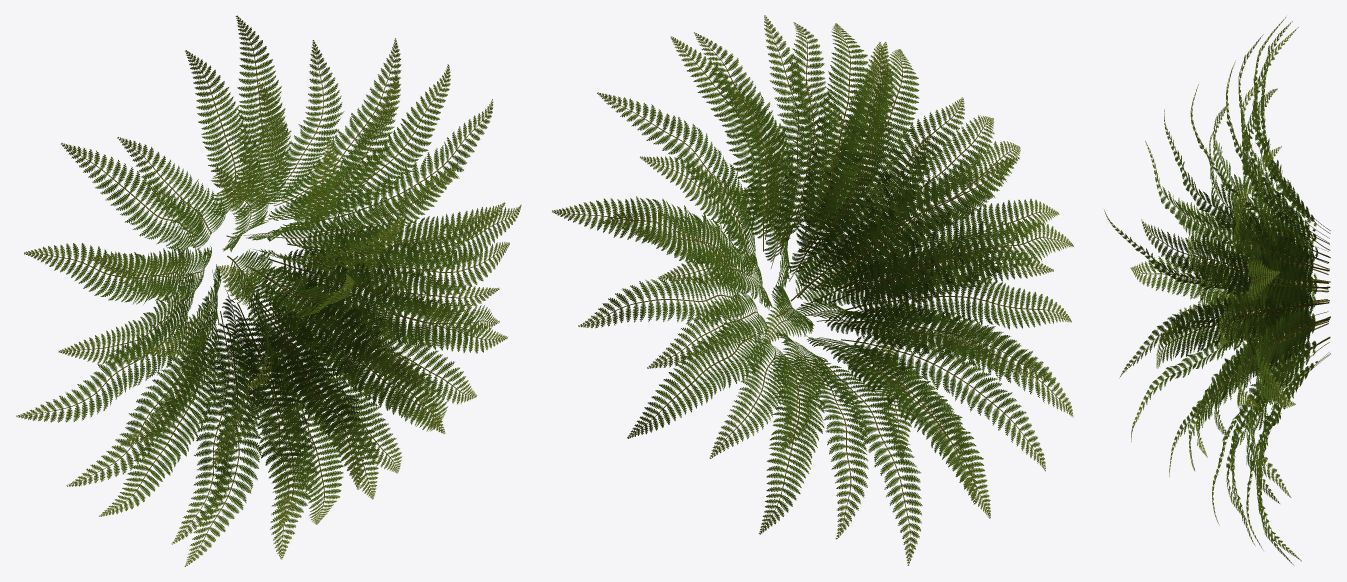
The model's file is fern_2.obj.
3 renders of one model, left to right at view 1: azimuth 30°, elevation 25°; view 2: azimuth 150°, elevation 25°; view 3: azimuth 270°, elevation 25°, orthographic. The views are drawn at different scales.
Parts seen in each view (by area): view 1: Matteuccia_struthiopteris__B001; view 2: Matteuccia_struthiopteris__B001; view 3: Matteuccia_struthiopteris__B001.
Part boxes in pixels (left/top/right/bottom): Matteuccia_struthiopteris__B001: left=16, top=15, right=521, bottom=566; Matteuccia_struthiopteris__B001: left=552, top=15, right=1073, bottom=565; Matteuccia_struthiopteris__B001: left=1104, top=17, right=1330, bottom=564.
Bounding box in the file's own units: 0.9547 × 0.9533 × 0.387.
Materials: 1 (1 with a texture image).
